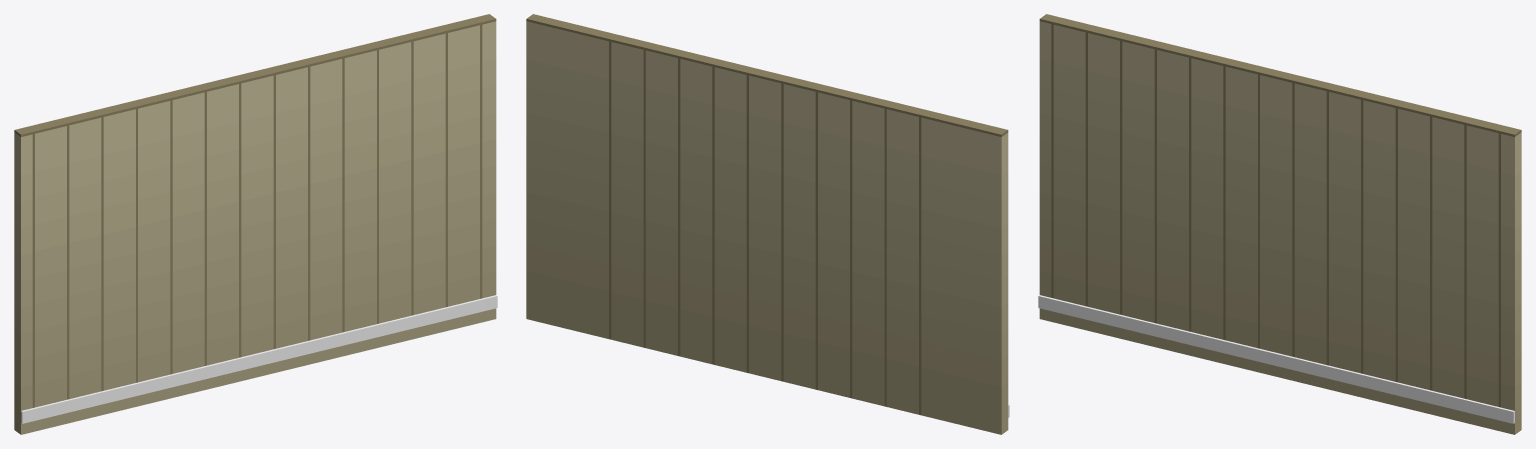
Rendered from wall43.obj.
The picture shows the model from 3 angles, left to right: view 1: azimuth 30°, elevation 25°; view 2: azimuth 150°, elevation 25°; view 3: azimuth 330°, elevation 25°; orthographic projection.
Size of the model in its own units: 20.7 by 12.5 by 0.6.
1 material, 1 textured.
